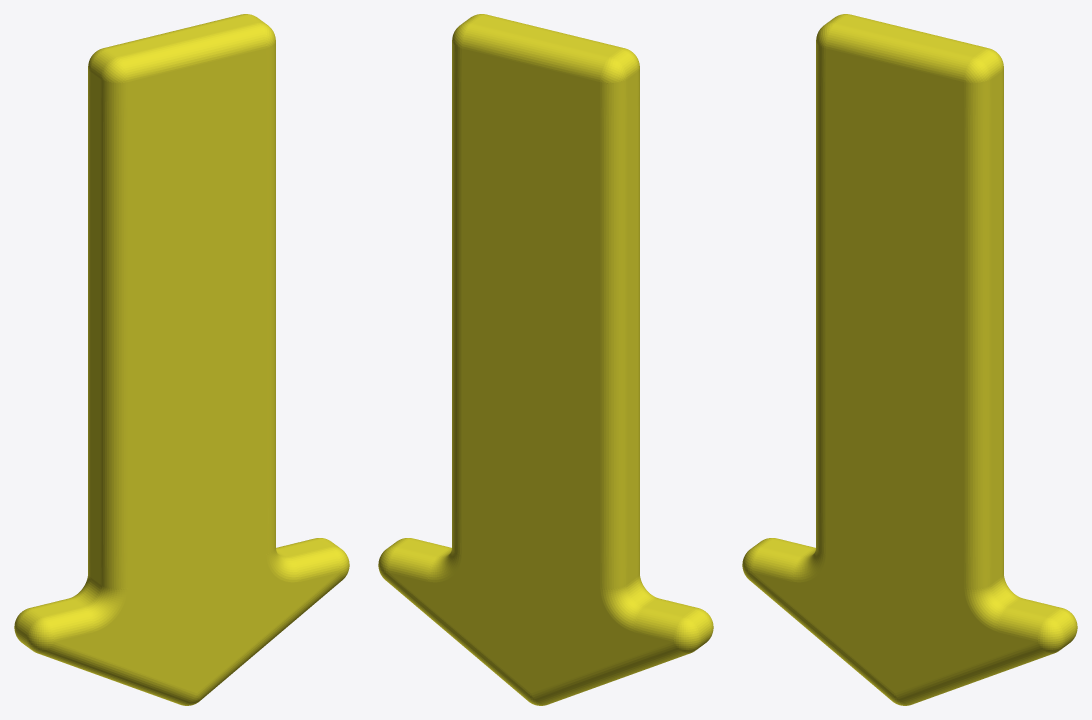
The model's file is ArrowPoitingDown.glb.
3 renders of one model, left to right at view 1: azimuth 30°, elevation 25°; view 2: azimuth 150°, elevation 25°; view 3: azimuth 330°, elevation 25°, orthographic.
Parts seen in each view (by area): view 1: uploads_files_2780780_Modern+Arrow; view 2: uploads_files_2780780_Modern+Arrow; view 3: uploads_files_2780780_Modern+Arrow.
Boxes of the visible parts, bbox=[...] form: uploads_files_2780780_Modern+Arrow: bbox=[14, 14, 349, 705]; uploads_files_2780780_Modern+Arrow: bbox=[378, 14, 713, 705]; uploads_files_2780780_Modern+Arrow: bbox=[742, 14, 1077, 705].
Size of the model in its own units: 1.85 by 3.68 by 0.3.
